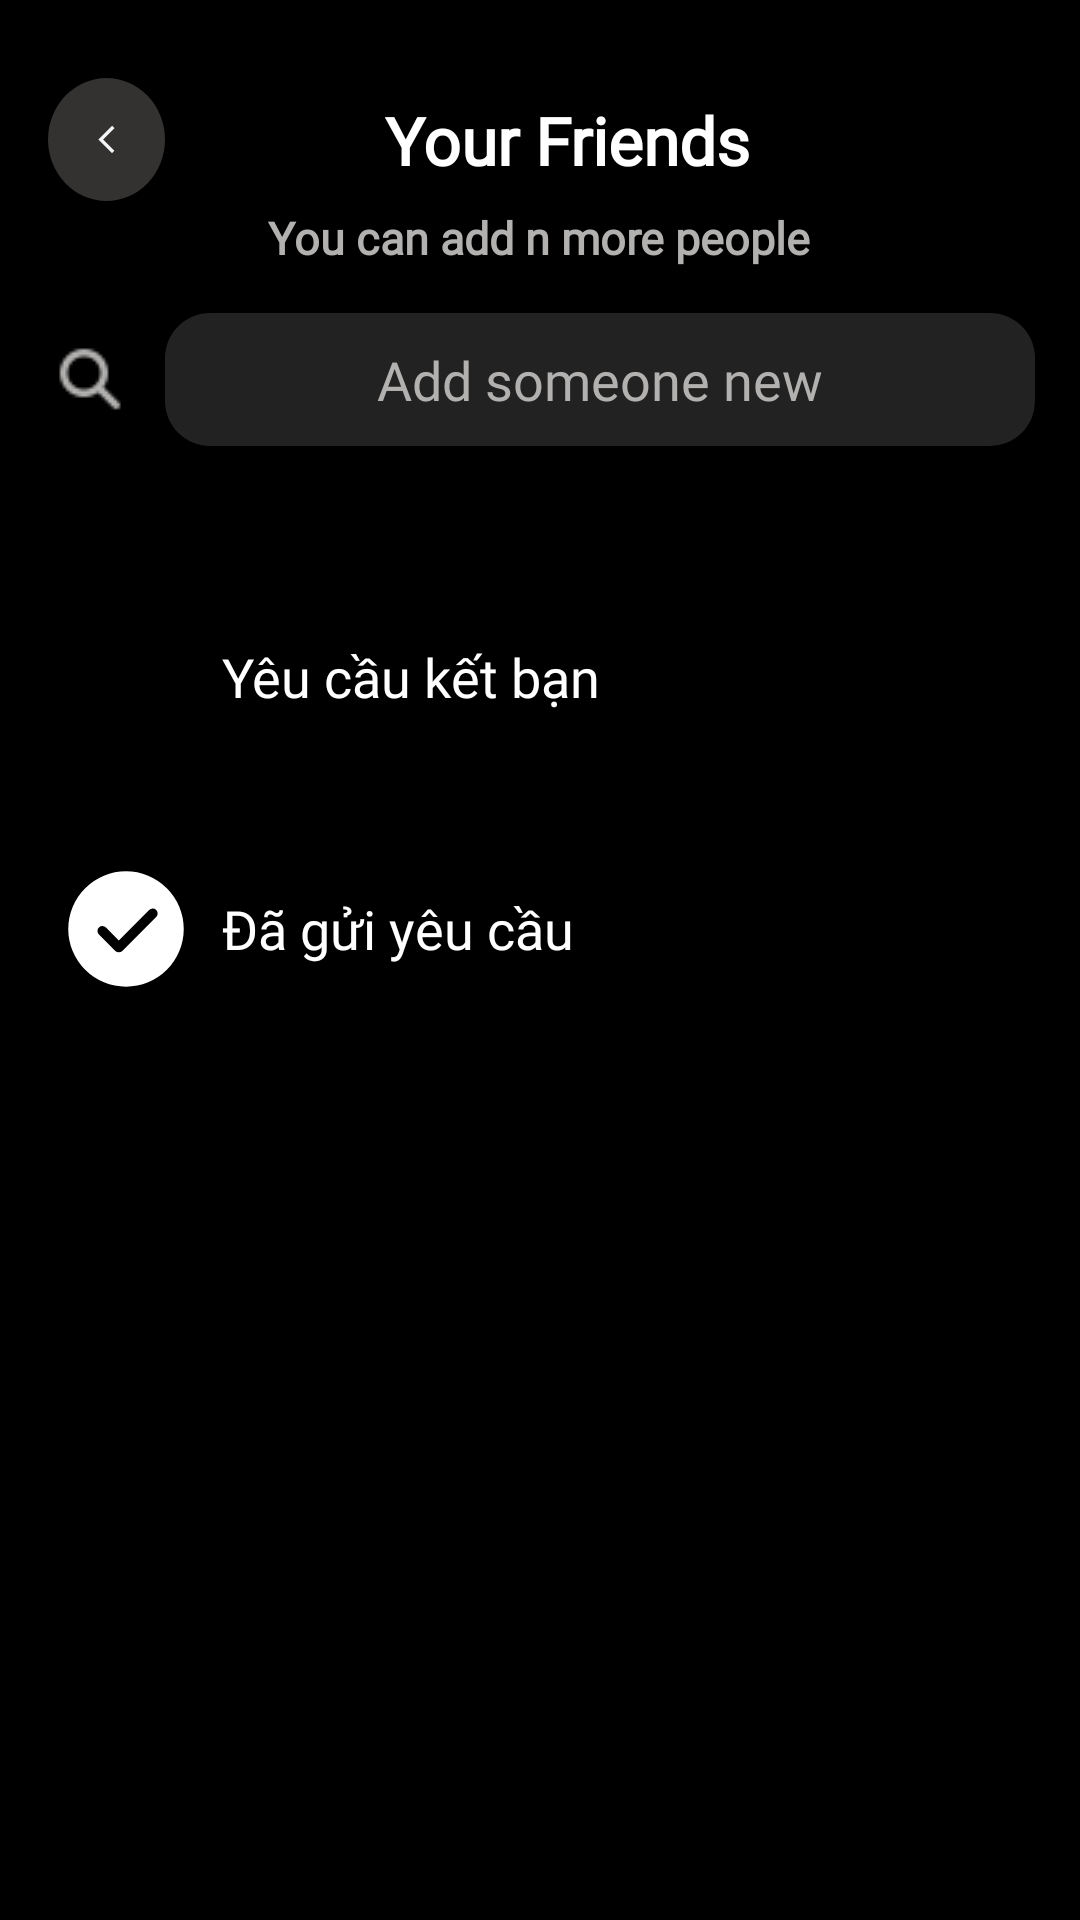

Where icons sit on this 1080×1920 app screen, as (x1,y1,x2,y2):
circle check: (68,871,184,987)
left arrow: (48,78,165,201)
search: (59,348,121,410)
